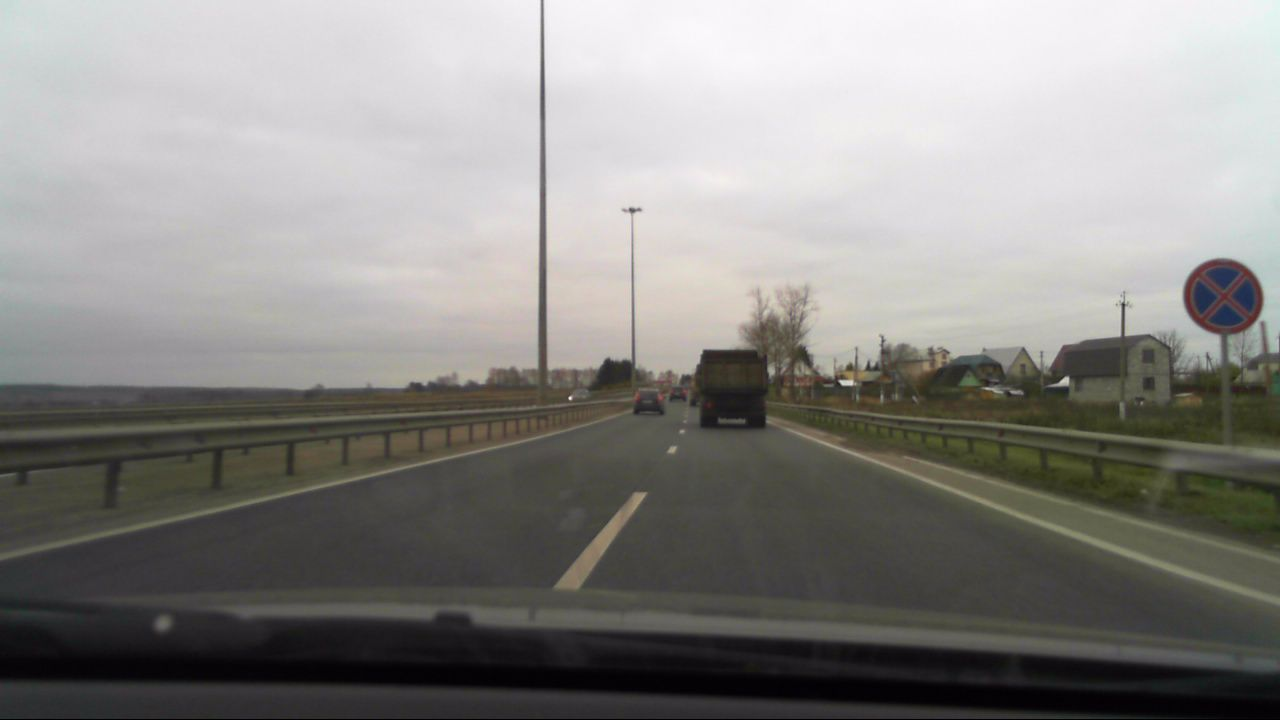No Parking: (1180, 255, 1261, 338)
